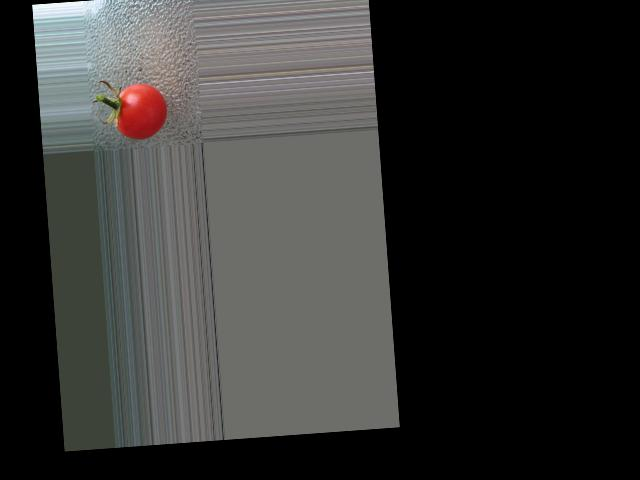tomato: (114, 80, 169, 140)
